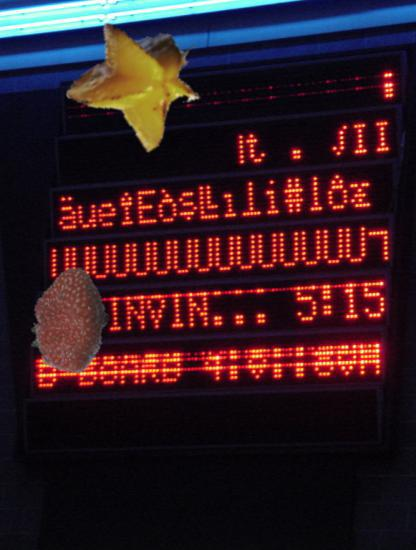Carambula: (70, 14, 205, 149)
Strawberry: (17, 266, 125, 374)
